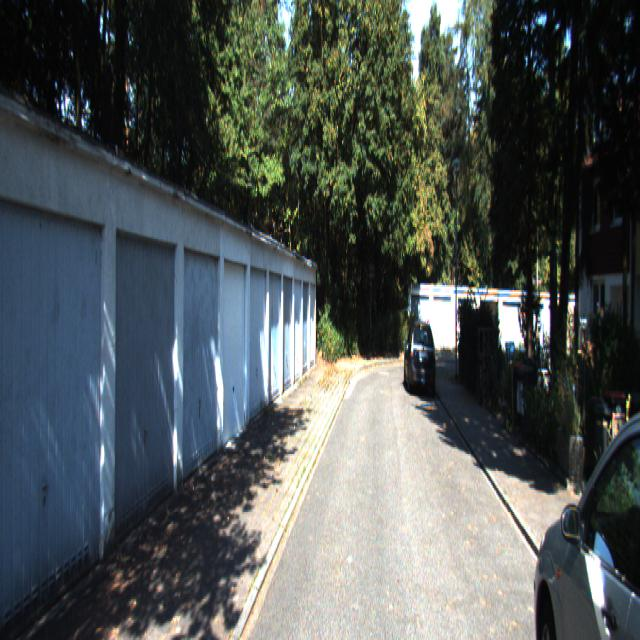Car: (528, 362, 640, 638), (405, 320, 438, 397)
